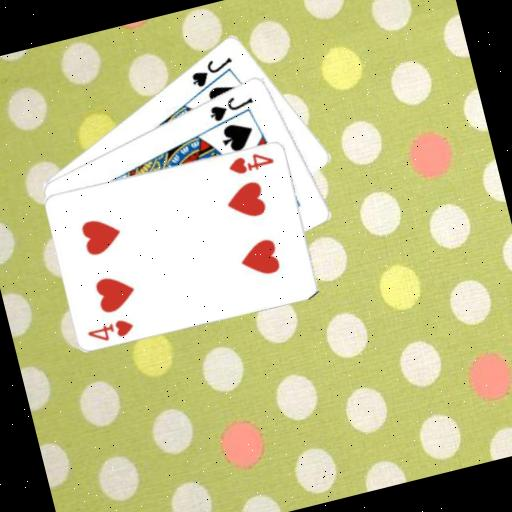4H: (83, 314, 137, 347), (224, 146, 277, 179)
JS: (185, 52, 239, 92), (203, 89, 258, 125)
